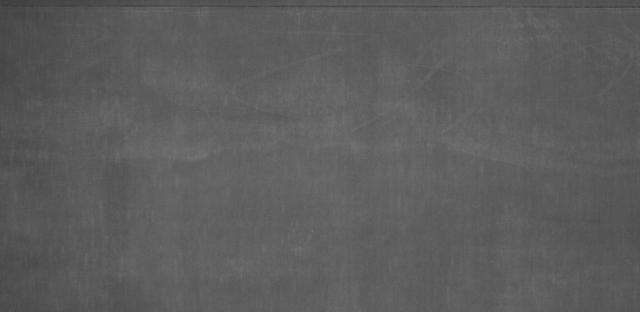welding_line: (0, 3, 632, 13)
